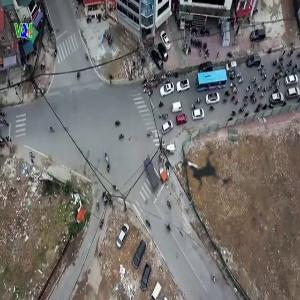drone: (157, 119, 260, 222)
